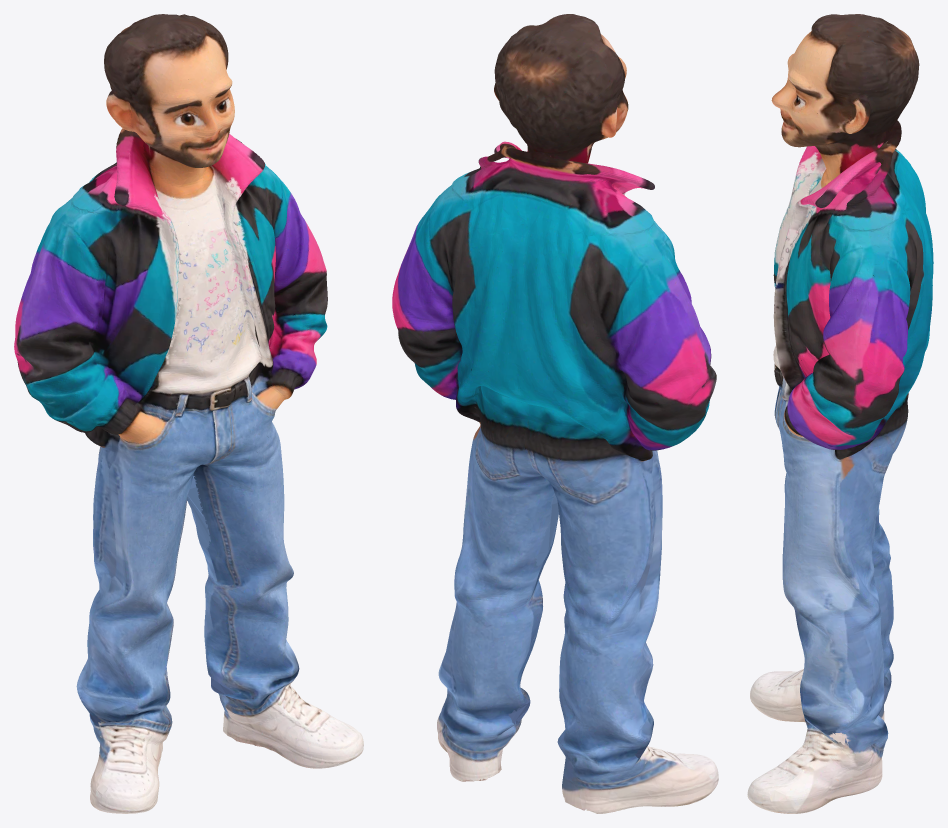
File: david.glb
3 renders of one model, left to right at view 1: azimuth 30°, elevation 25°; view 2: azimuth 150°, elevation 25°; view 3: azimuth 270°, elevation 25°, orthographic. The views are drawn at different scales.
Parts seen in each view (by area): view 1: David | textured character; view 2: David | textured character; view 3: David | textured character.
Boxes of the visible parts, x1,y1,x2,y2 form: David | textured character: [14, 14, 363, 813]; David | textured character: [392, 14, 718, 813]; David | textured character: [747, 14, 933, 813].
Size of the model in its own units: 0.7682 by 1.8 by 0.4159.
1 material, 1 textured.
